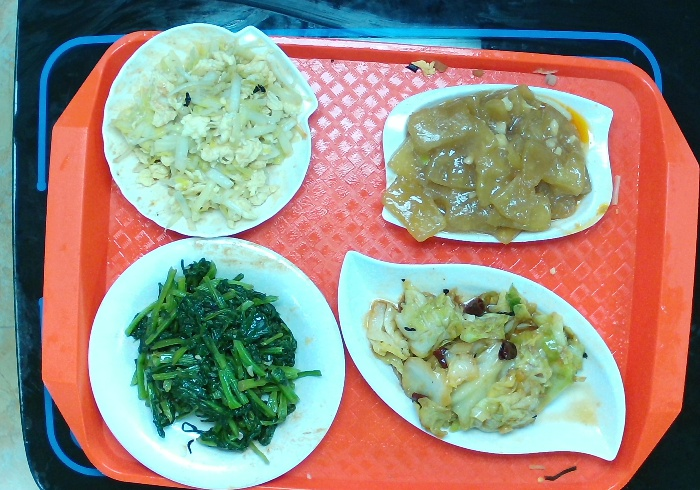RJxy-Bei_Ke_Wan: (100, 21, 318, 241)
RJxy-Jian_Jiao_Fang_Die: (377, 82, 617, 245)
RJxy-Jian_Jiao_Pan: (333, 249, 629, 464)
RJxy-Yuan_Pan: (87, 234, 348, 485)
